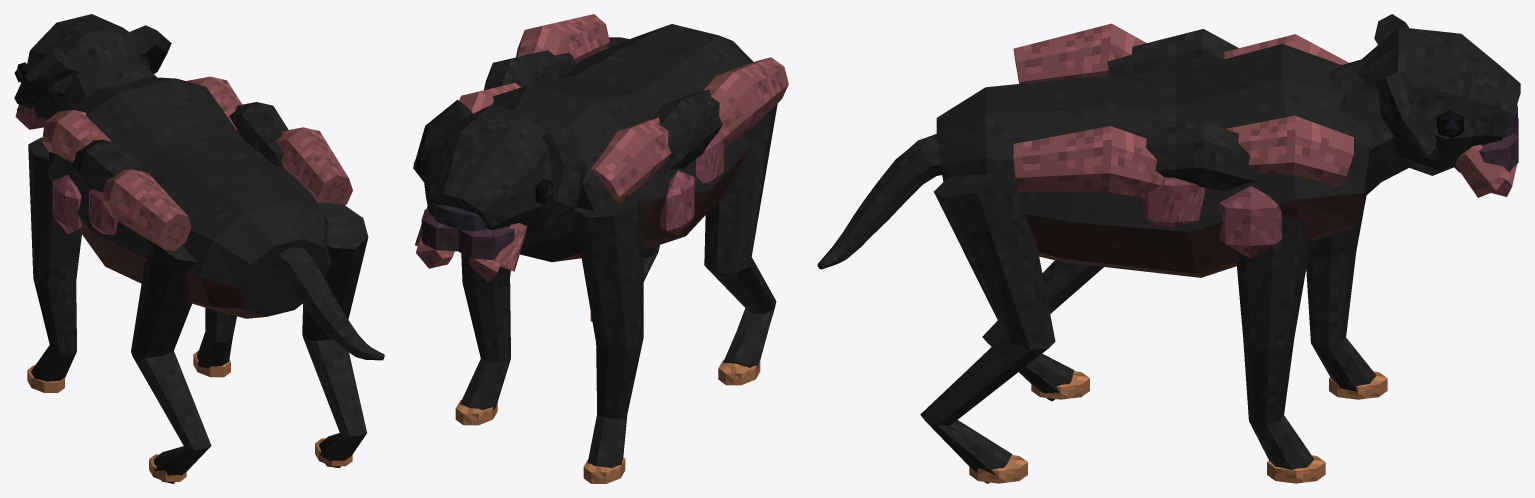
File: mon_dog_zombie_brute.glb
The picture shows the model from 3 angles, left to right: view 1: azimuth 30°, elevation 25°; view 2: azimuth 150°, elevation 25°; view 3: azimuth 270°, elevation 25°; orthographic projection. The views are drawn at different scales.
Parts seen in each view (by area): view 1: closed_body; view 2: closed_body; view 3: closed_body.
Boxes of the visible parts, x1=… form: closed_body: x1=14, y1=14, x2=384, y2=483; closed_body: x1=413, y1=14, x2=788, y2=483; closed_body: x1=817, y1=14, x2=1520, y2=483.
Size of the model in its own units: 0.5407 by 0.7819 by 1.23.
Materials: 1 (1 with a texture image).
